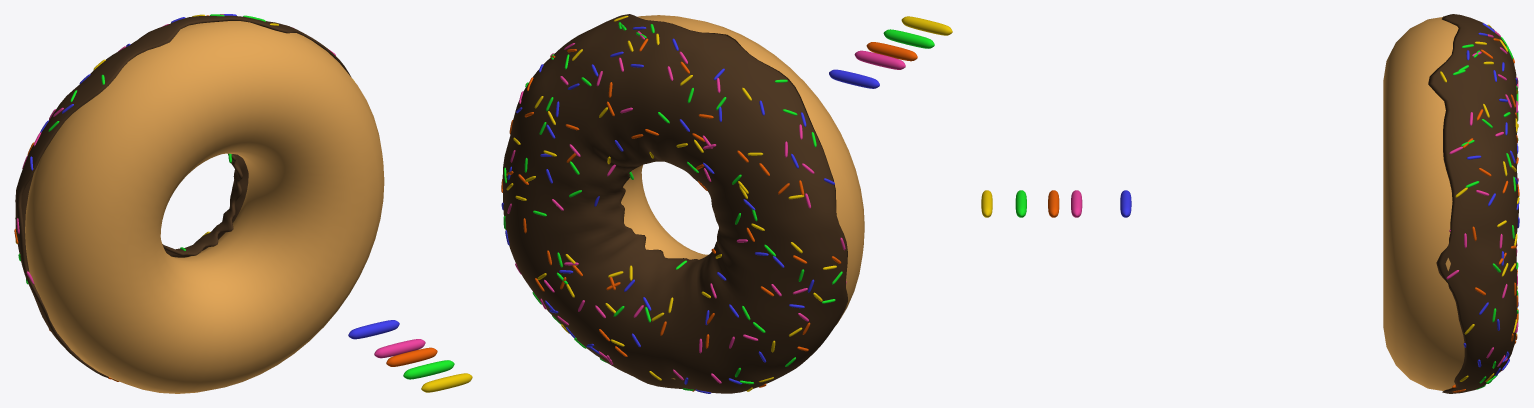
The model's file is Donuts.fbx.
3 views of the same model, side by side, from view 1: azimuth 30°, elevation 25°; view 2: azimuth 150°, elevation 25°; view 3: azimuth 270°, elevation 25° (orthographic). The views are drawn at different scales.
Visible parts, largest first — view 1: Torus, Torus.001, Sphere.003, Sphere.002, Sphere.001, Sphere.004, Sphere; view 2: Torus.001, Torus, Sphere.003, Sphere, Sphere.001, Sphere.002, Sphere.004; view 3: Torus, Torus.001.
Boxes of the visible parts, bbox=[...] form: Torus: bbox=[25, 21, 384, 393]; Torus.001: bbox=[15, 15, 351, 380]; Sphere.003: bbox=[421, 373, 472, 392]; Sphere.002: bbox=[403, 360, 454, 379]; Sphere.001: bbox=[348, 320, 399, 339]; Sphere.004: bbox=[386, 347, 437, 366]; Sphere: bbox=[374, 339, 425, 358]; Torus.001: bbox=[502, 14, 847, 393]; Torus: bbox=[621, 15, 864, 379]; Sphere.003: bbox=[901, 16, 952, 35]; Sphere: bbox=[854, 50, 905, 69]; Sphere.001: bbox=[829, 69, 879, 88]; Sphere.002: bbox=[883, 29, 934, 48]; Sphere.004: bbox=[866, 42, 917, 61]; Torus: bbox=[1383, 16, 1464, 390]; Torus.001: bbox=[1428, 14, 1518, 393].
Bounding box in the file's own units: 216 × 216 × 307.
